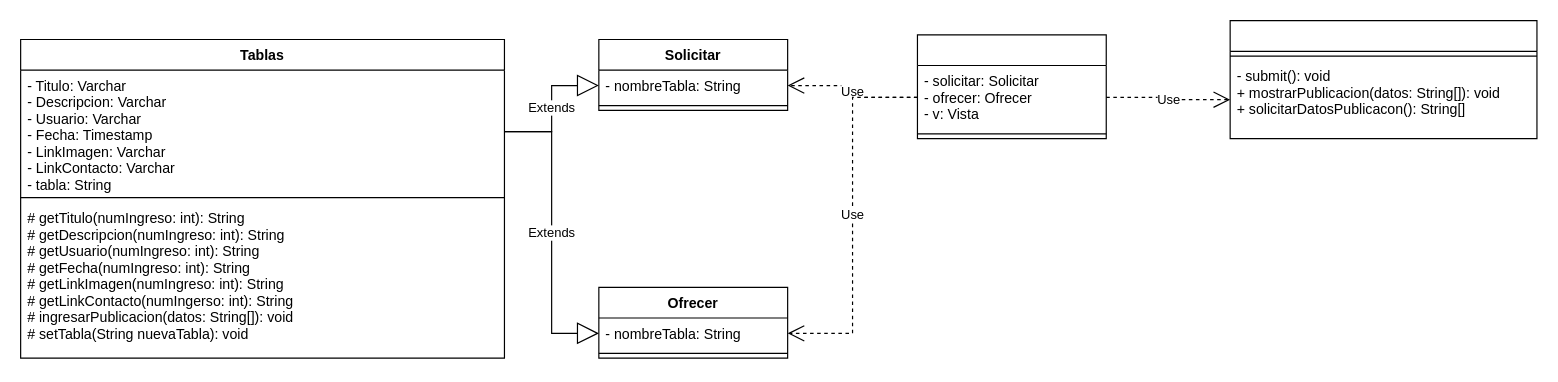
Some shapes in this 1558 by 382 pixel diagram are drawn without their labels. Each missing label, with the box of its shape:
Sitio: (916, 34, 1106, 139)
Vista: (1229, 19, 1537, 139)
